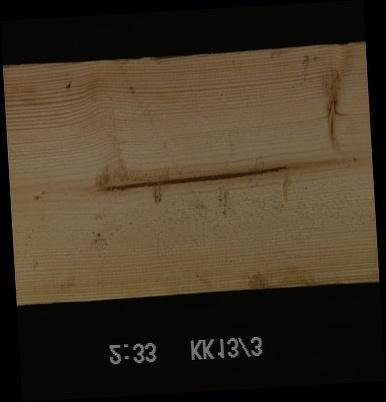small_knot: (345, 151, 362, 166)
